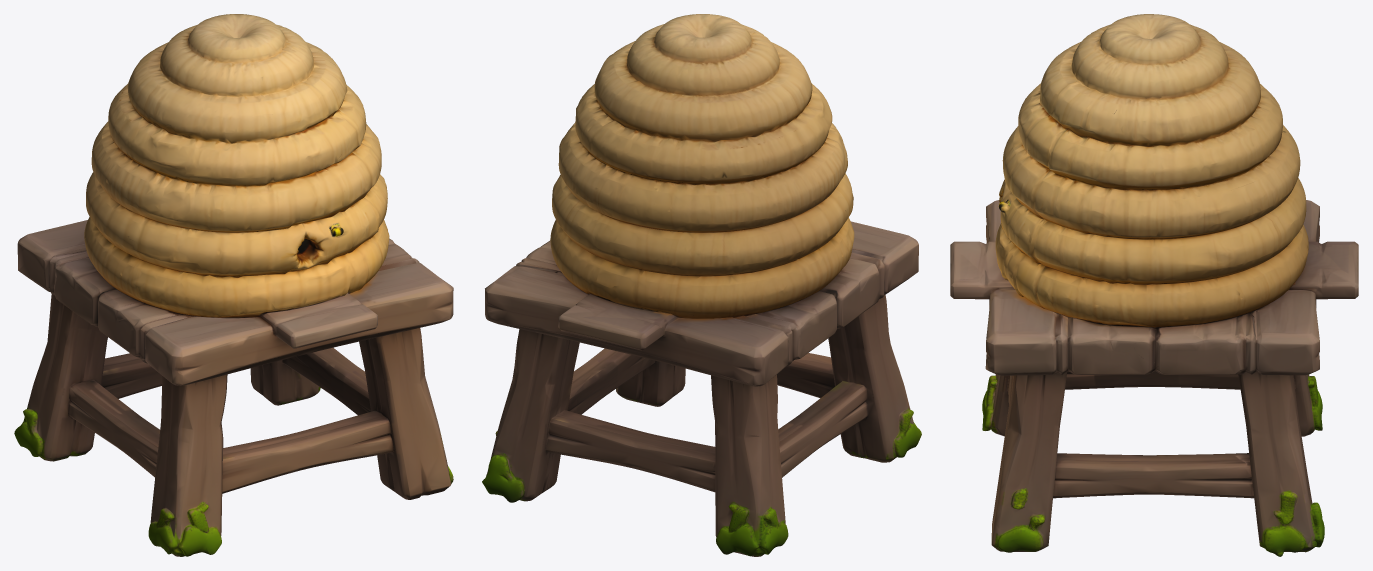
Rendered from beehive-skep.glb.
The picture shows the model from 3 angles, left to right: view 1: azimuth 30°, elevation 25°; view 2: azimuth 150°, elevation 25°; view 3: azimuth 270°, elevation 25°; orthographic projection. The views are drawn at different scales.
Visible parts, largest first — view 1: node_0; view 2: node_0; view 3: node_0.
Part boxes in pixels (x1,y1,x2,y2): node_0: (14,14,453,556); node_0: (482,14,921,556); node_0: (950,14,1358,556).
Bounding box in the file's own units: 0.6155 × 0.8947 × 0.7268.
1 material, 1 textured.
